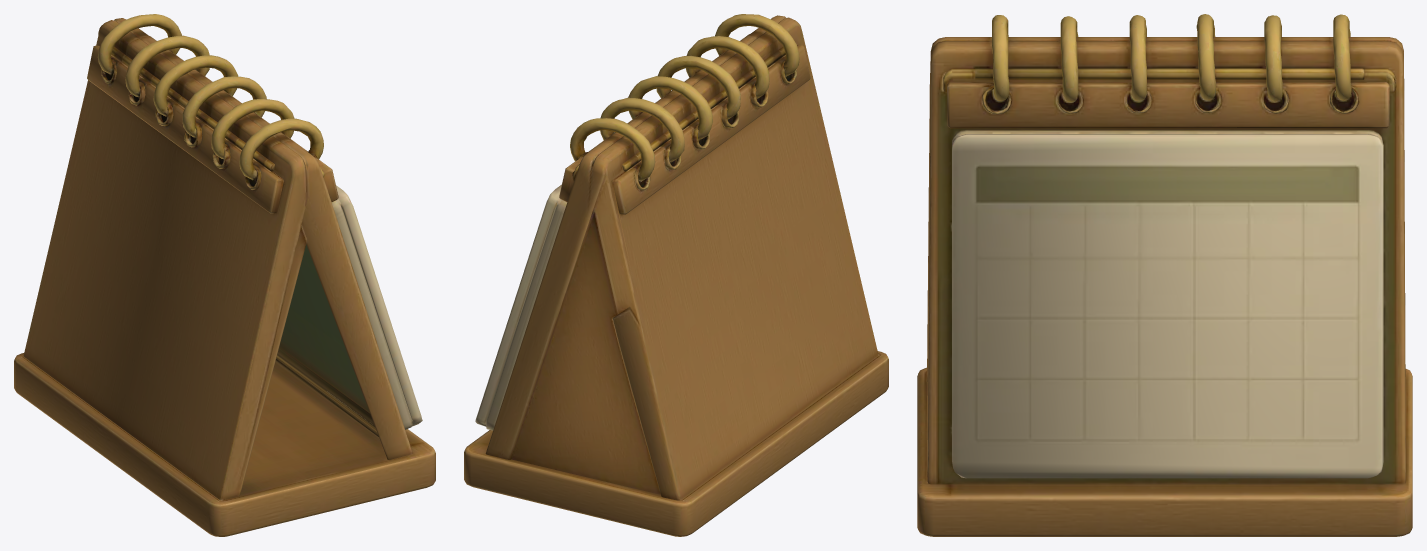
Rendered from review-calendar-lod1.glb.
The picture shows the model from 3 angles, left to right: view 1: azimuth 30°, elevation 25°; view 2: azimuth 150°, elevation 25°; view 3: azimuth 270°, elevation 25°; orthographic projection. The views are drawn at different scales.
Visible parts, largest first — view 1: meshes[0]; view 2: meshes[0]; view 3: meshes[0].
Part boxes in pixels (x1,y1,x2,y2): meshes[0]: (14, 14, 435, 536); meshes[0]: (464, 14, 888, 536); meshes[0]: (917, 14, 1412, 536).
Size of the model in its own units: 0.6269 by 0.9902 by 0.998.
Materials: 1 (1 with a texture image).
